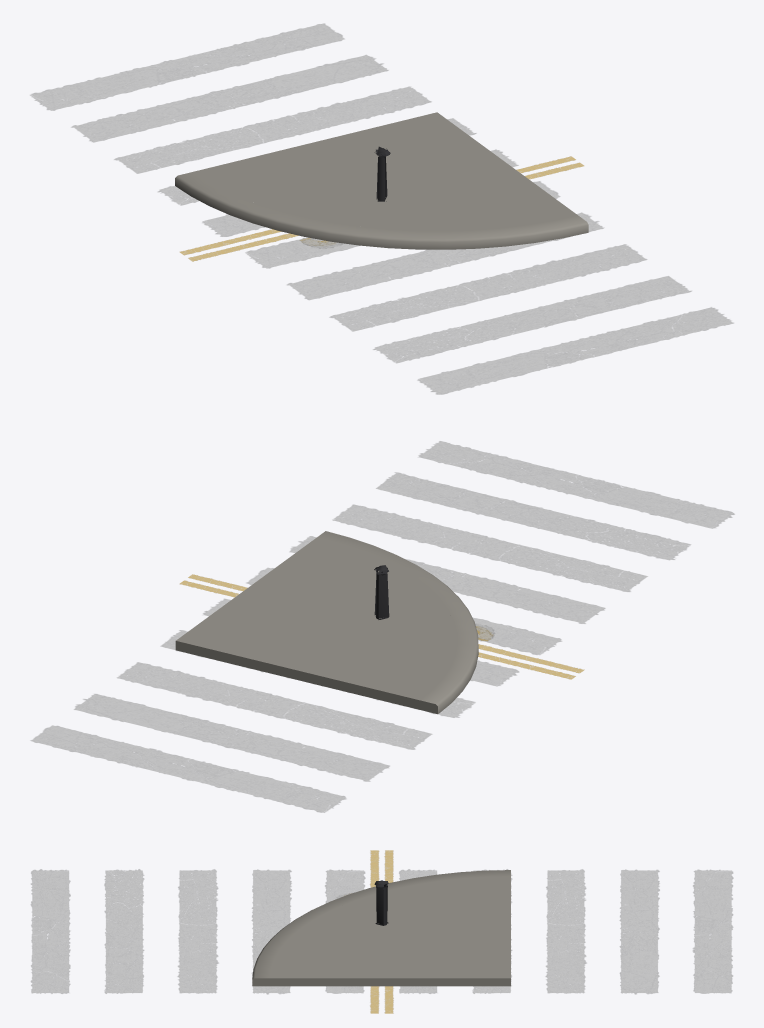
File: kit.glb
The picture shows the model from 3 angles, top to bottom: view 1: azimuth 30°, elevation 25°; view 2: azimuth 150°, elevation 25°; view 3: azimuth 270°, elevation 25°; orthographic projection. The views are drawn at different scales.
Parts seen in each view (by area): view 1: crosswalk, corner, doubleYellow; view 2: crosswalk, corner, doubleYellow, bollard; view 3: crosswalk, corner, doubleYellow, bollard.
Boxes of the visible parts, x1=… form: crosswalk: x1=30, y1=23, x2=733, y2=394; corner: x1=175, y1=112, x2=588, y2=249; doubleYellow: x1=180, y1=156, x2=583, y2=261; crosswalk: x1=30, y1=441, x2=734, y2=812; corner: x1=175, y1=531, x2=478, y2=714; doubleYellow: x1=180, y1=574, x2=584, y2=679; bollard: x1=374, y1=565, x2=389, y2=619; crosswalk: x1=31, y1=869, x2=733, y2=994; corner: x1=252, y1=870, x2=510, y2=986; doubleYellow: x1=370, y1=850, x2=393, y2=1013; bollard: x1=374, y1=880, x2=388, y2=925.
Size of the model in its own units: 6 by 0.8762 by 11.42.
Materials: 2 (1 with a texture image).
